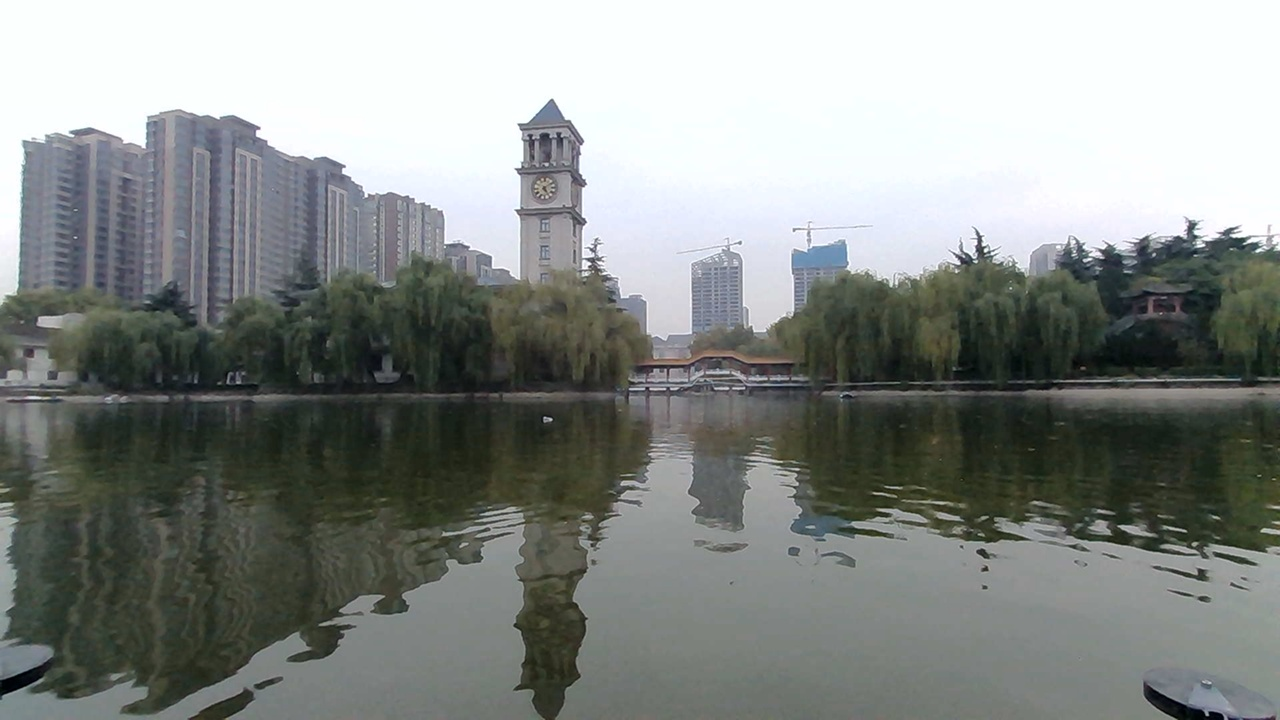bottle: (526, 411, 557, 432)
